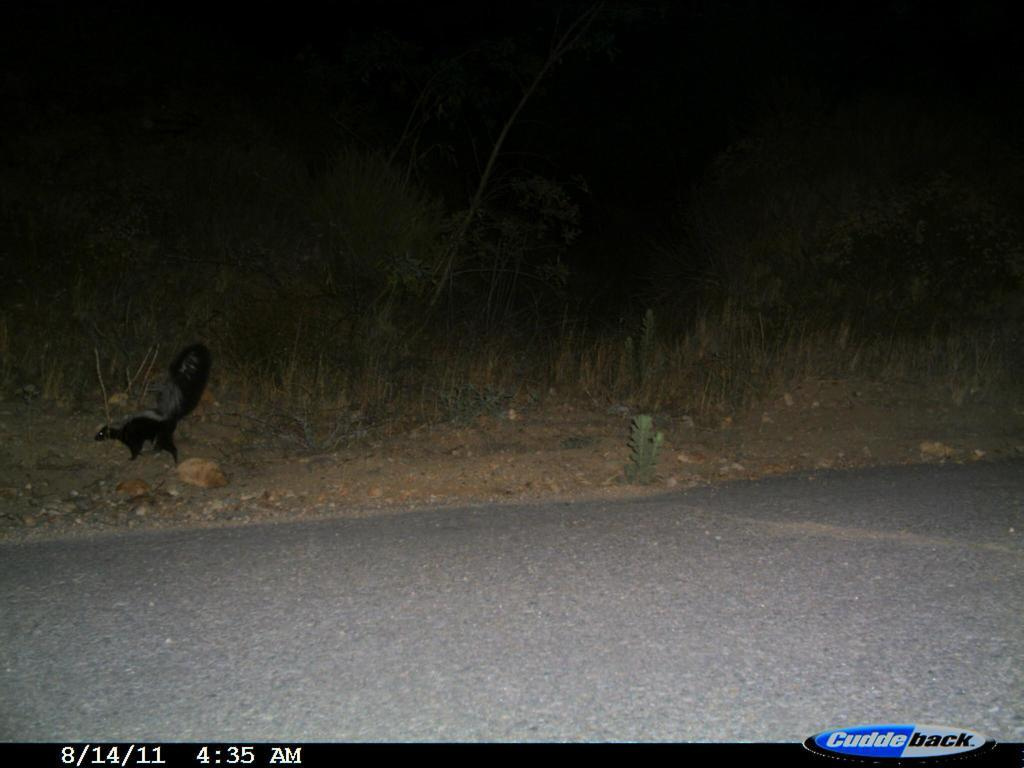skunk: (81, 341, 226, 473)
